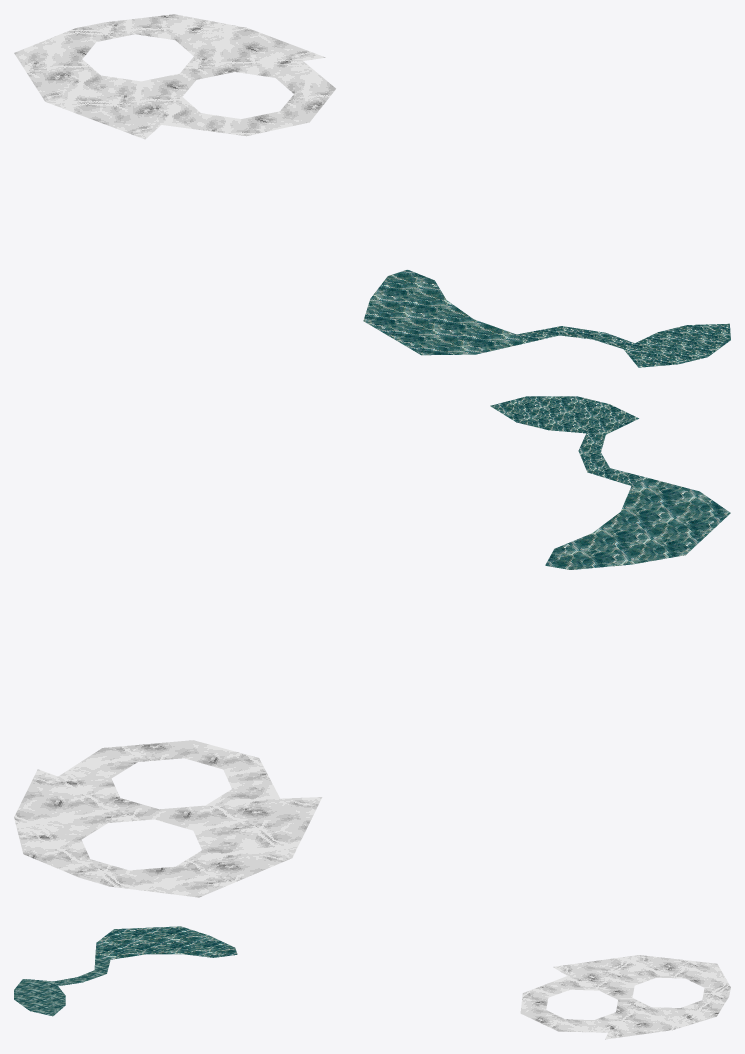
The model's file is SnowheadTransparent.obj.
3 views of the same model, one above another, from view 1: azimuth 30°, elevation 25°; view 2: azimuth 150°, elevation 25°; view 3: azimuth 270°, elevation 25° (orthographic). The views are drawn at different scales.
Size of the model in its own units: 1538 by 174 by 5110.
Materials: 2 (2 with a texture image).
